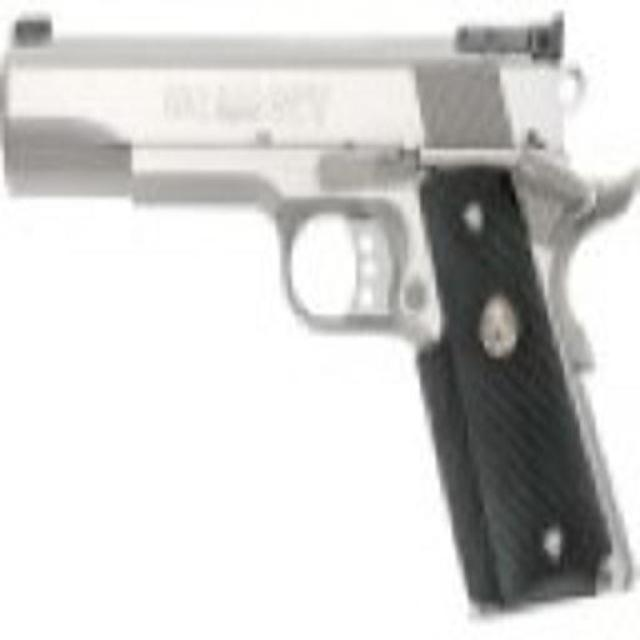pistol: (7, 21, 627, 607)
